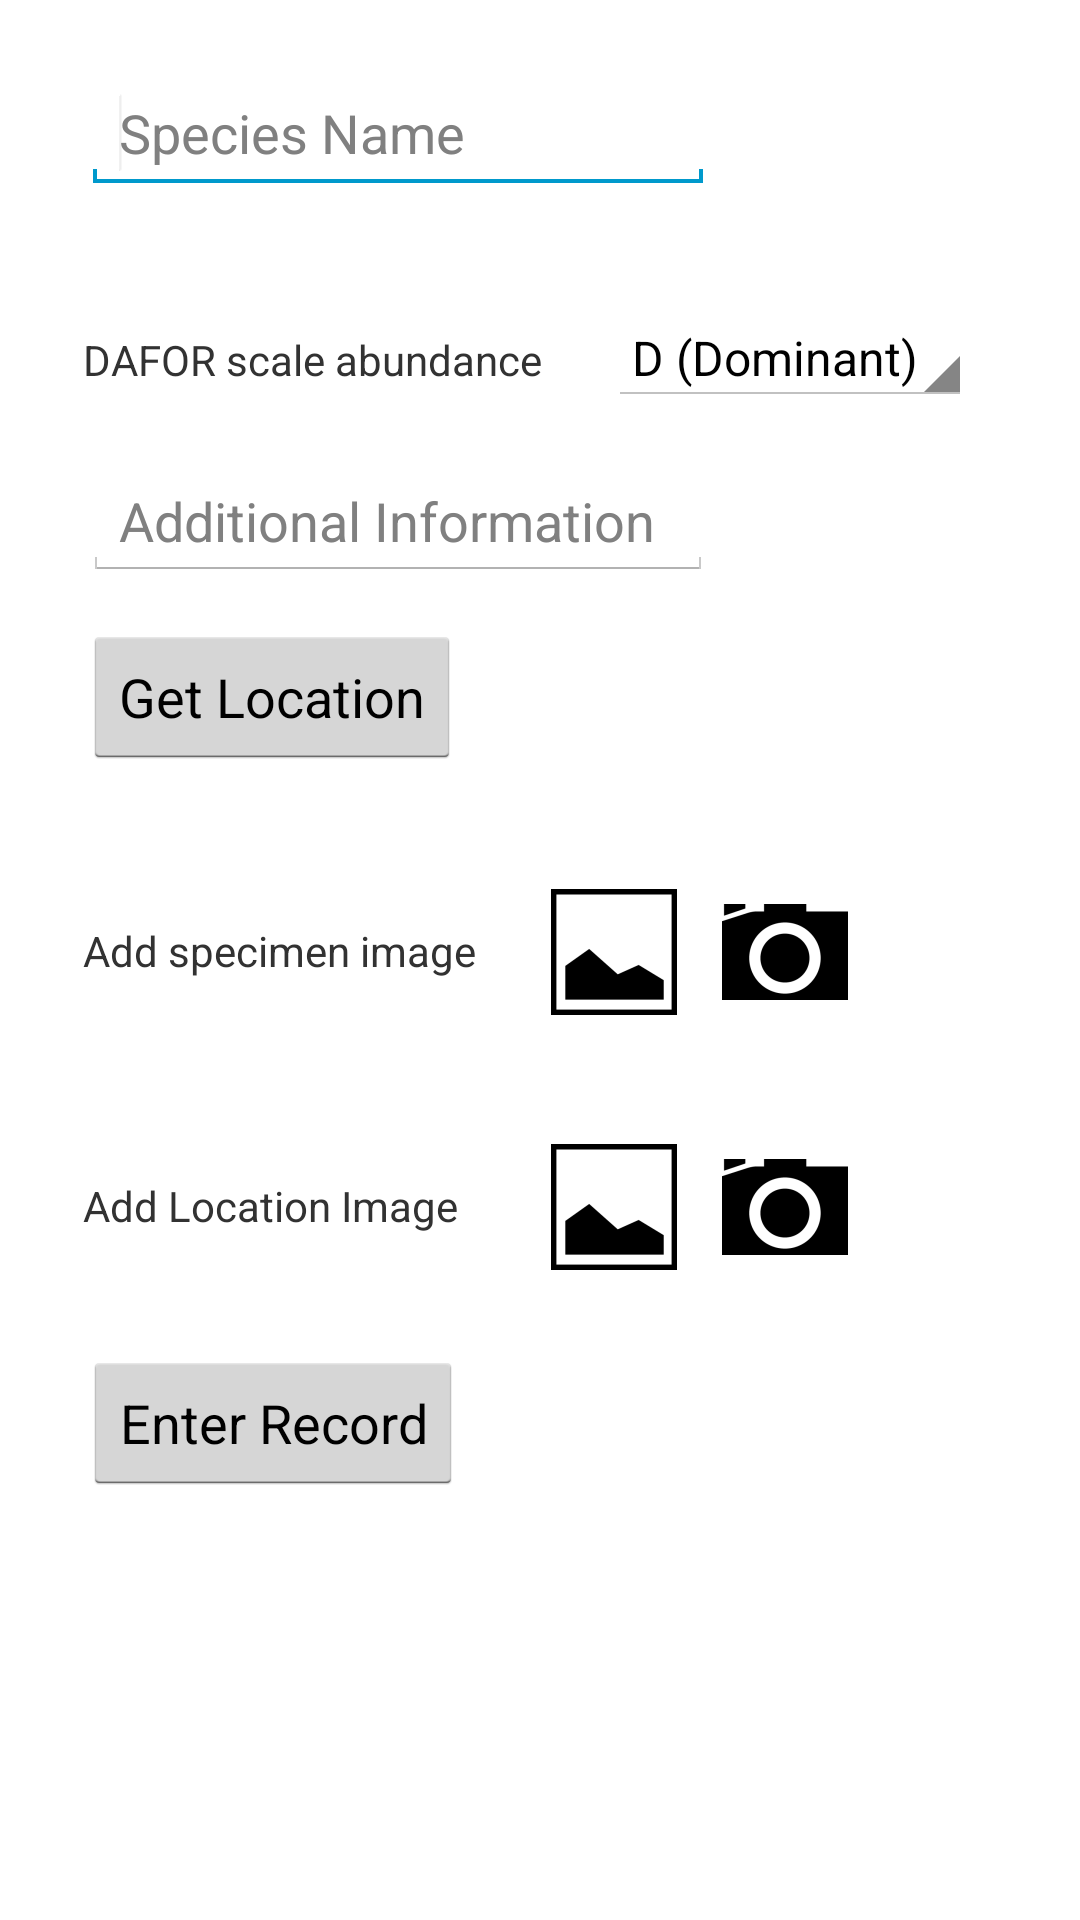

Named icons in this screenshot (1080 × 1920) and their centers, (x=x, y=y):
get image from gallery: (x=614, y=952), (x=614, y=1207)
take photo with camera: (x=785, y=952), (x=785, y=1207)
